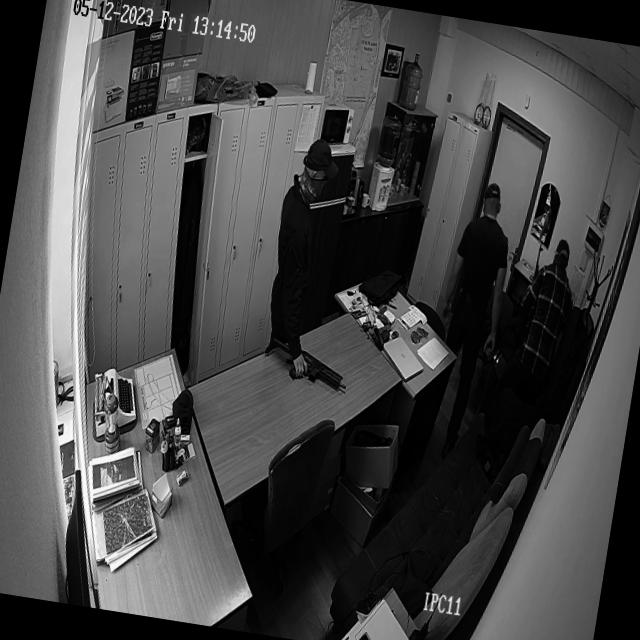gun: (260, 334, 354, 396), (478, 337, 497, 376), (532, 239, 546, 285)
person: (510, 235, 579, 389)
person with a gun: (422, 180, 517, 448), (256, 136, 340, 374), (510, 236, 580, 389)
